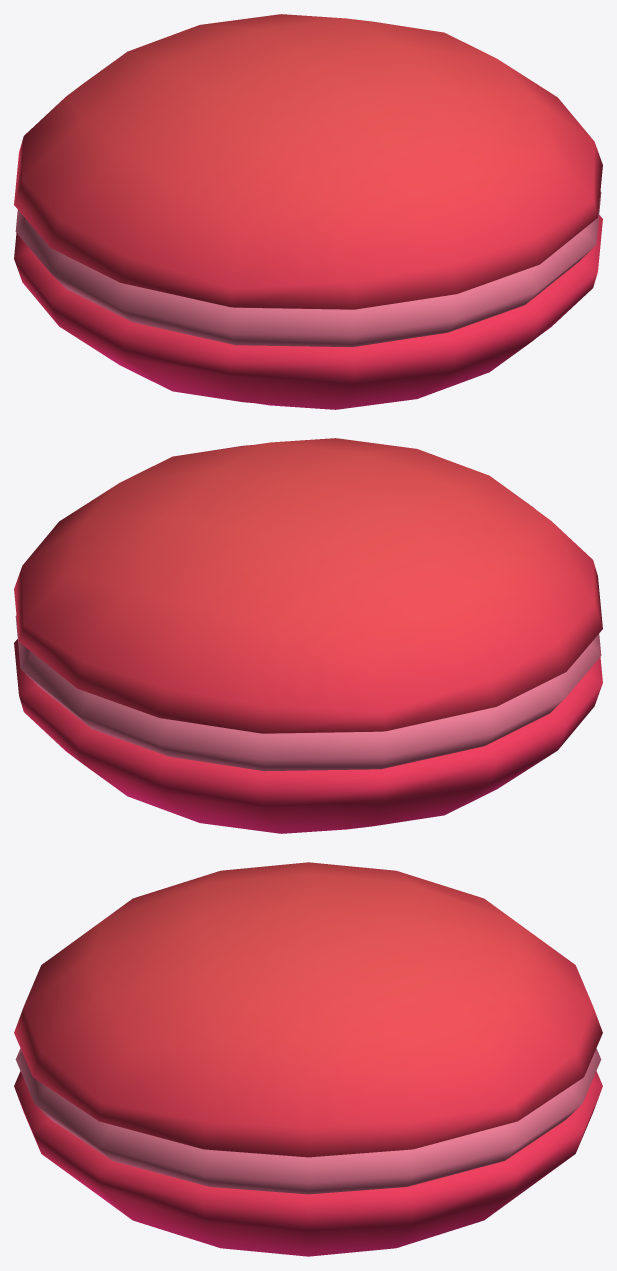
The model's file is cookie_005.fbx.
3 renders of one model, top to bottom at view 1: azimuth 30°, elevation 25°; view 2: azimuth 150°, elevation 25°; view 3: azimuth 270°, elevation 25°, orthographic.
Parts seen in each view (by area): view 1: cookie_005; view 2: cookie_005; view 3: cookie_005.
Boxes of the visible parts, <box> form: cookie_005: <box>14,14,602,409</box>; cookie_005: <box>14,438,602,833</box>; cookie_005: <box>14,862,602,1256</box>.
Bounding box in the file's own units: 5.37 × 5.37 × 3.02.
